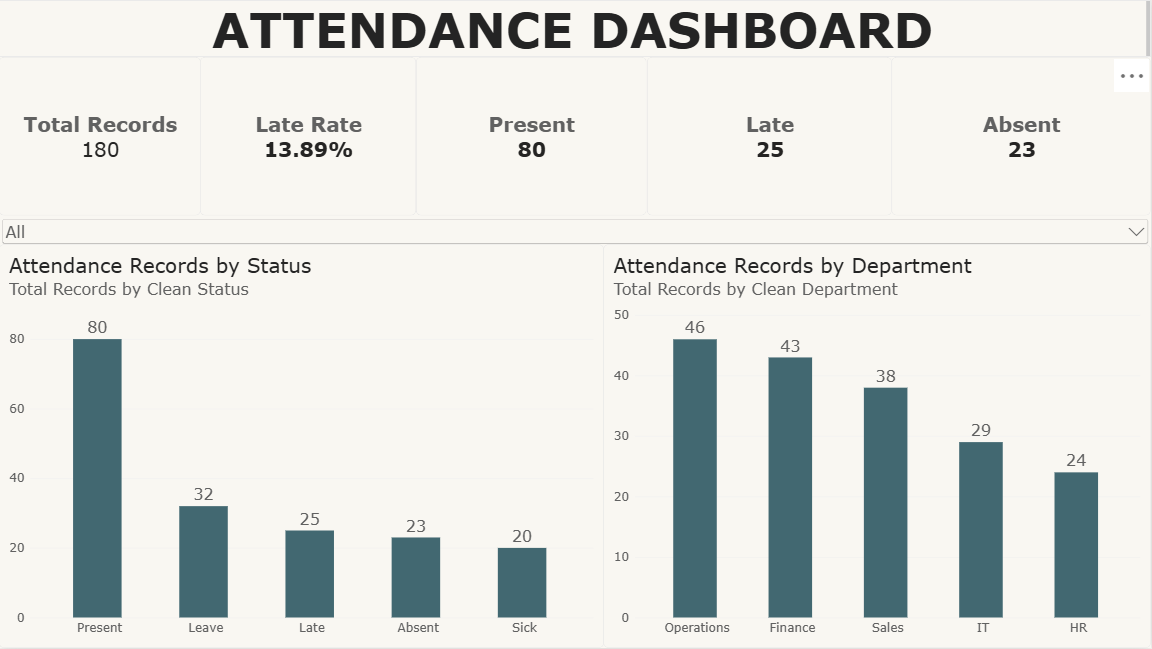

What the dashboard file says about the page in this screenshot:
{"tool":"powerbi","page":{"name":"Page 1","canvas":[1920,1080],"ordinal":0},"visuals":[{"type":"cardVisual","fields":{"Data":["CountNonNull(tb1Absensi.Attendance ID)"]},"box":[0,96,336,264],"z":0},{"type":"cardVisual","fields":{"Data":["tb1Absensi.Present Count"]},"box":[696,96,384,264],"z":1},{"type":"cardVisual","fields":{"Data":["tb1Absensi.Late Count"]},"box":[1080,96,408,264],"z":2},{"type":"cardVisual","fields":{"Data":["tb1Absensi.Absent Count"]},"box":[1488,96,432,264],"z":3},{"type":"cardVisual","fields":{"Data":["tb1Absensi.Late Rate (%)"]},"box":[336,96,360,264],"z":4},{"type":"clusteredColumnChart","title":"Attendance Records by Status","fields":{"Category":["tb1Absensi.Clean Status"],"Y":["tb1Absensi.Total Records"]},"box":[0,408,1008,672],"z":5},{"type":"clusteredColumnChart","title":"Attendance Records by Department","fields":{"Category":["tb1Absensi.Clean Department"],"Y":["tb1Absensi.Total Records"]},"box":[1008,408,912,672],"z":6},{"type":"slicer","fields":{"Values":["tb1Absensi.Clean Department"]},"box":[0,360,1920,48],"z":7},{"type":"textbox","box":[0,0,1920,96],"z":8}]}

Visuals, with their boxes in screenshot pixels (x1, y1, x2, y2), scaled from the page's 1920x1080 canvas onto the 1152x649 screenshot:
cardVisual - CountNonNull(tb1Absensi.Attendance ID): <region>0, 58, 202, 216</region>
cardVisual - tb1Absensi.Present Count: <region>418, 58, 648, 216</region>
cardVisual - tb1Absensi.Late Count: <region>648, 58, 893, 216</region>
cardVisual - tb1Absensi.Absent Count: <region>893, 58, 1151, 216</region>
cardVisual - tb1Absensi.Late Rate (%): <region>202, 58, 418, 216</region>
"Attendance Records by Status" clusteredColumnChart: <region>0, 245, 605, 648</region>
"Attendance Records by Department" clusteredColumnChart: <region>605, 245, 1151, 648</region>
slicer - tb1Absensi.Clean Department: <region>0, 216, 1151, 245</region>
textbox: <region>0, 0, 1151, 58</region>
